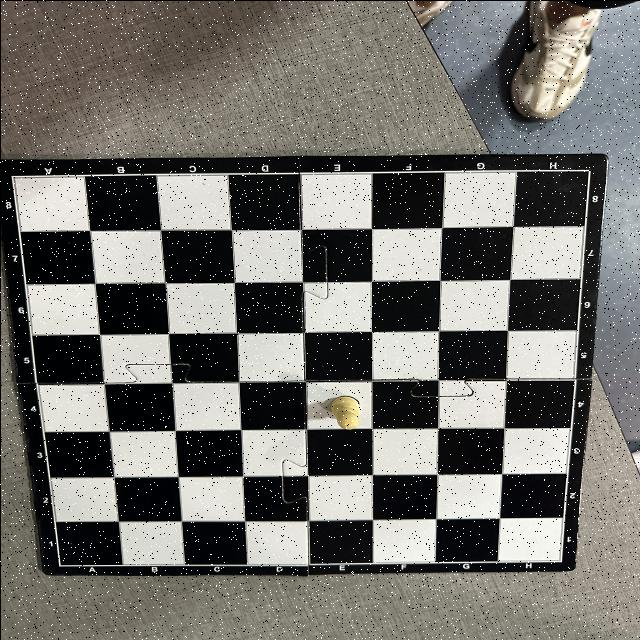White-Pawn: (328, 394, 361, 429)
